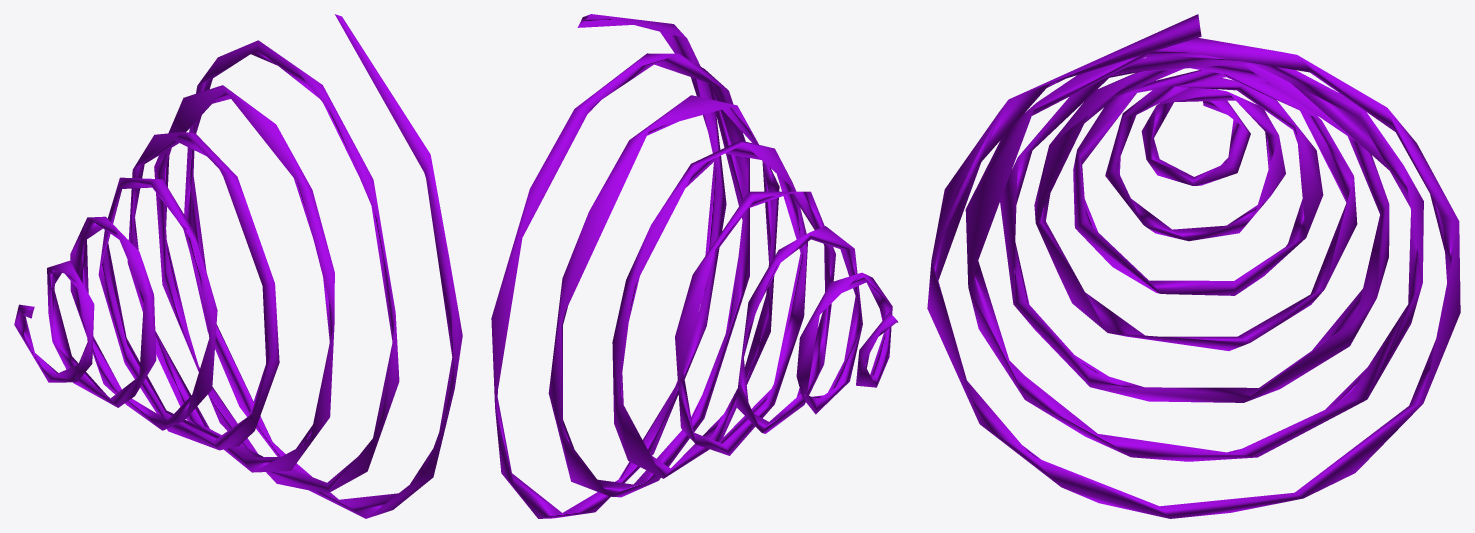
Rendered from confuse1.glb.
3 views of the same model, side by side, from view 1: azimuth 30°, elevation 25°; view 2: azimuth 150°, elevation 25°; view 3: azimuth 270°, elevation 25° (orthographic). The views are drawn at different scales.
Visible parts, largest first — view 1: Spiral.002; view 2: Spiral.002; view 3: Spiral.002.
Boxes of the visible parts, x1,y1,x2,y2 form: Spiral.002: [14, 14, 462, 518]; Spiral.002: [491, 14, 898, 518]; Spiral.002: [927, 14, 1460, 518].
Size of the model in its own units: 0.6542 by 0.9335 by 0.8856.
